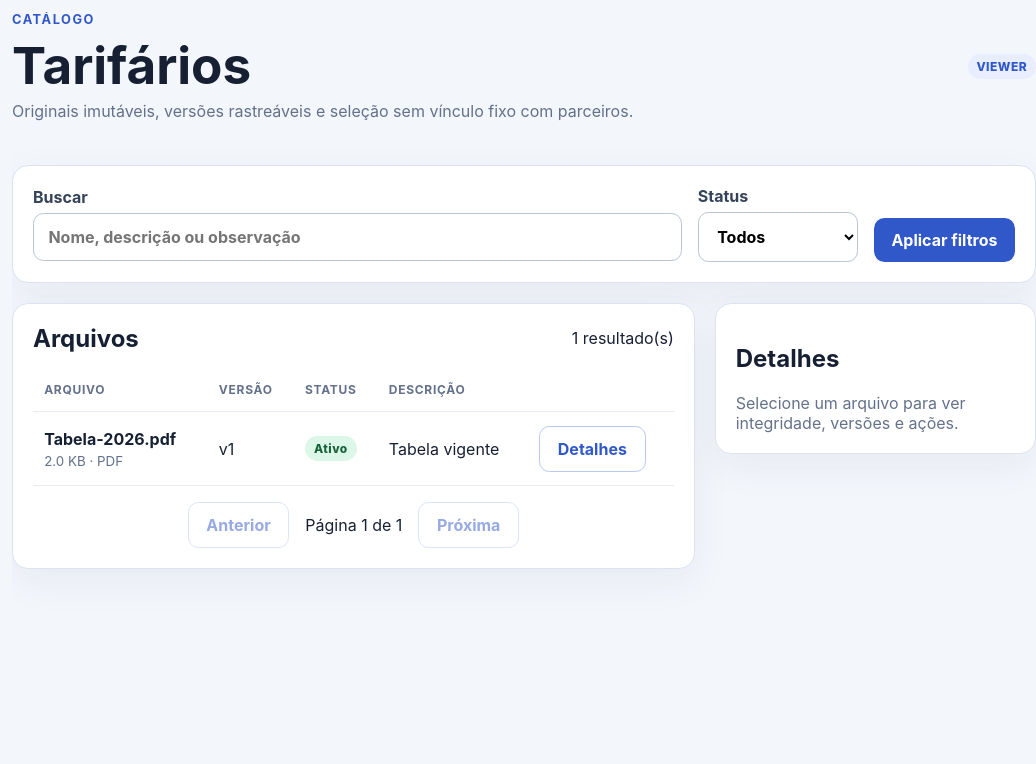
Scenario: TariffManagement › keeps viewer access read-only while preserving detail and download
Check: the text "Tabela-2026.pdf" is shown, box [44,428,176,448]
Click the button "Detalhes" at (592, 448), box [539,426,646,472]
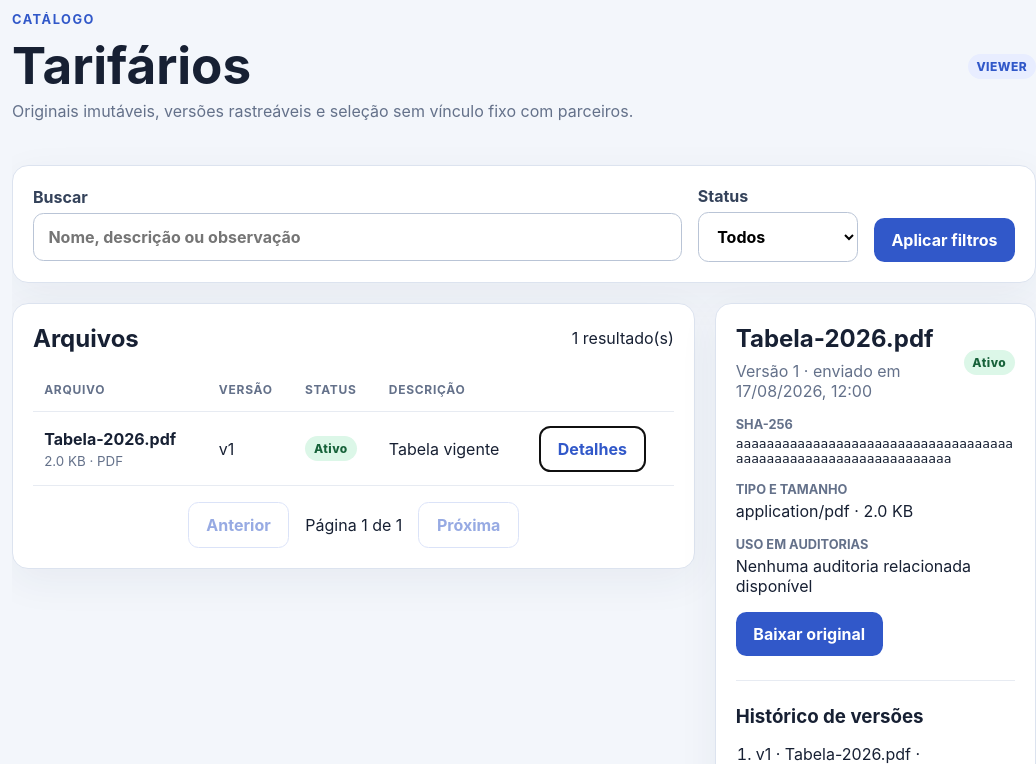
Check: the link "Baixar original" is shown, box [736,612,883,656]
